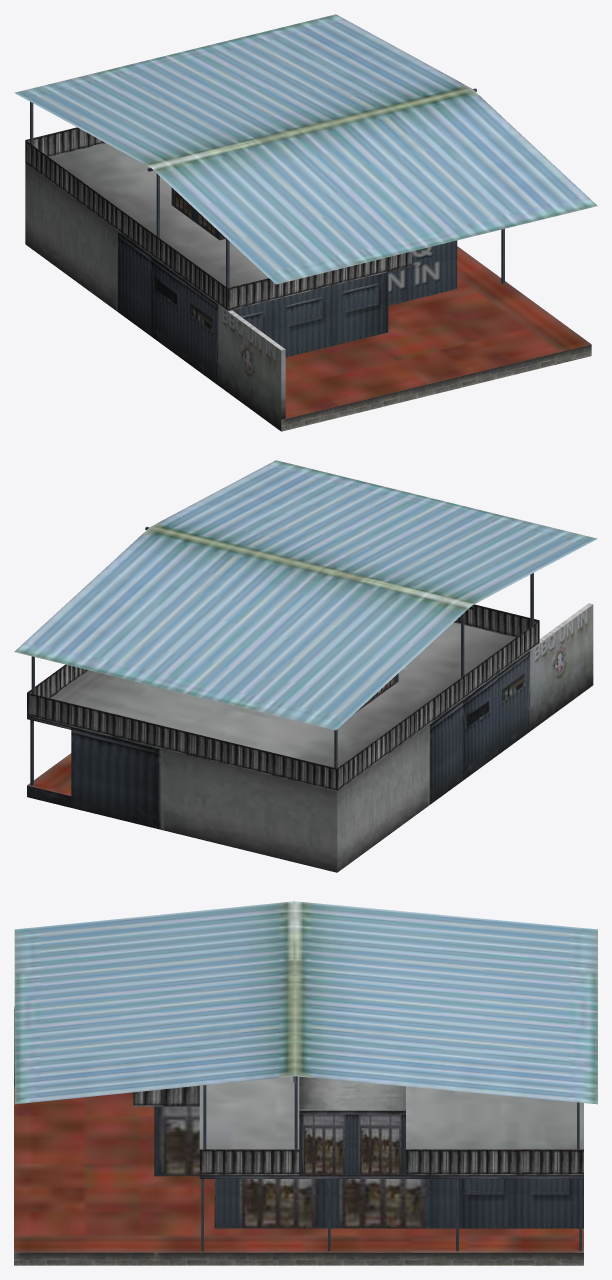
The picture shows the model from 3 angles, top to bottom: view 1: azimuth 30°, elevation 25°; view 2: azimuth 150°, elevation 25°; view 3: azimuth 270°, elevation 25°; orthographic projection. The views are drawn at different scales.
Visible parts, largest first — view 1: 5d6e32b26589c60e5c573814.001; view 2: 5d6e32b26589c60e5c573814.001; view 3: 5d6e32b26589c60e5c573814.001.
Part boxes in pixels (x1,y1,x2,y2): 5d6e32b26589c60e5c573814.001: [14, 14, 597, 431]; 5d6e32b26589c60e5c573814.001: [14, 460, 597, 872]; 5d6e32b26589c60e5c573814.001: [14, 901, 597, 1265].
Bounding box in the file's own units: 14.79 × 7.48 × 20.49.
1 material, 1 textured.
